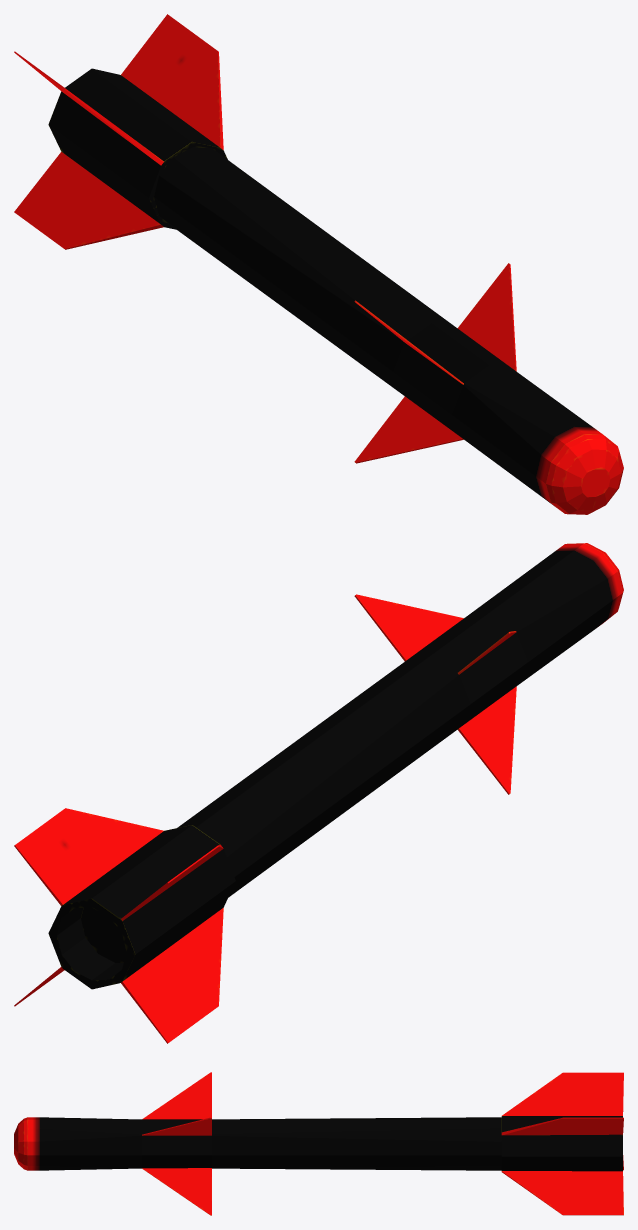
The model's file is Missile.fbx.
3 renders of one model, top to bottom at view 1: azimuth 30°, elevation 25°; view 2: azimuth 150°, elevation 25°; view 3: azimuth 270°, elevation 25°, orthographic. The views are drawn at different scales.
Parts seen in each view (by area): view 1: Missile1_Unwrapped; view 2: Missile1_Unwrapped; view 3: Missile1_Unwrapped.
Boxes of the visible parts, x1,y1,x2,y2 form: Missile1_Unwrapped: [14, 14, 623, 514]; Missile1_Unwrapped: [14, 543, 623, 1043]; Missile1_Unwrapped: [14, 1072, 623, 1215].
Bounding box in the file's own units: 20.49 × 20.49 × 115.
